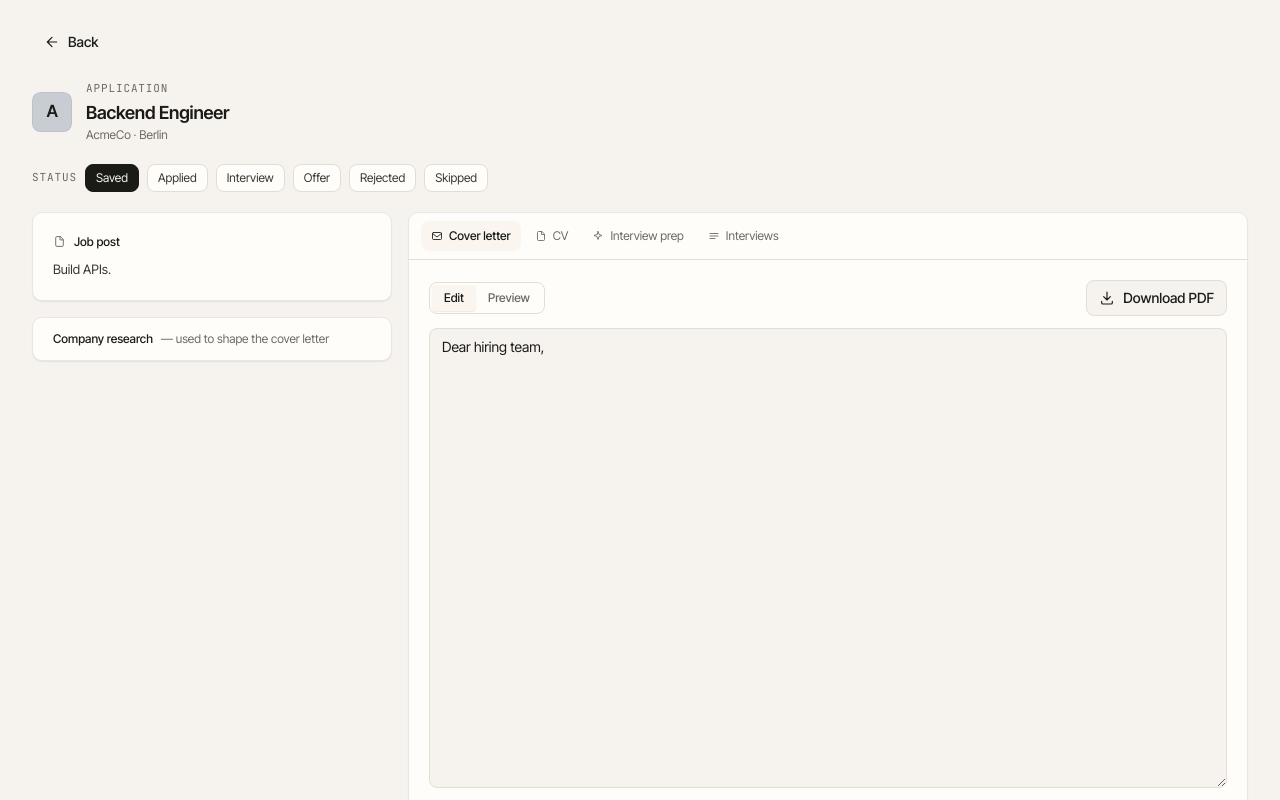
Scenario: MaterialsScreen (detail mode) › offers a Download PDF button on the cover letter and CV tabs
Expected: the text box named "edit cover letter" is shown, [429, 328, 1227, 788]
Expected: the button "Download PDF" is shown, [1086, 280, 1227, 316]
Note: CV tab exposes its own PDF download.
Click the button "CV".
click(552, 236)  # box [525, 220, 578, 250]
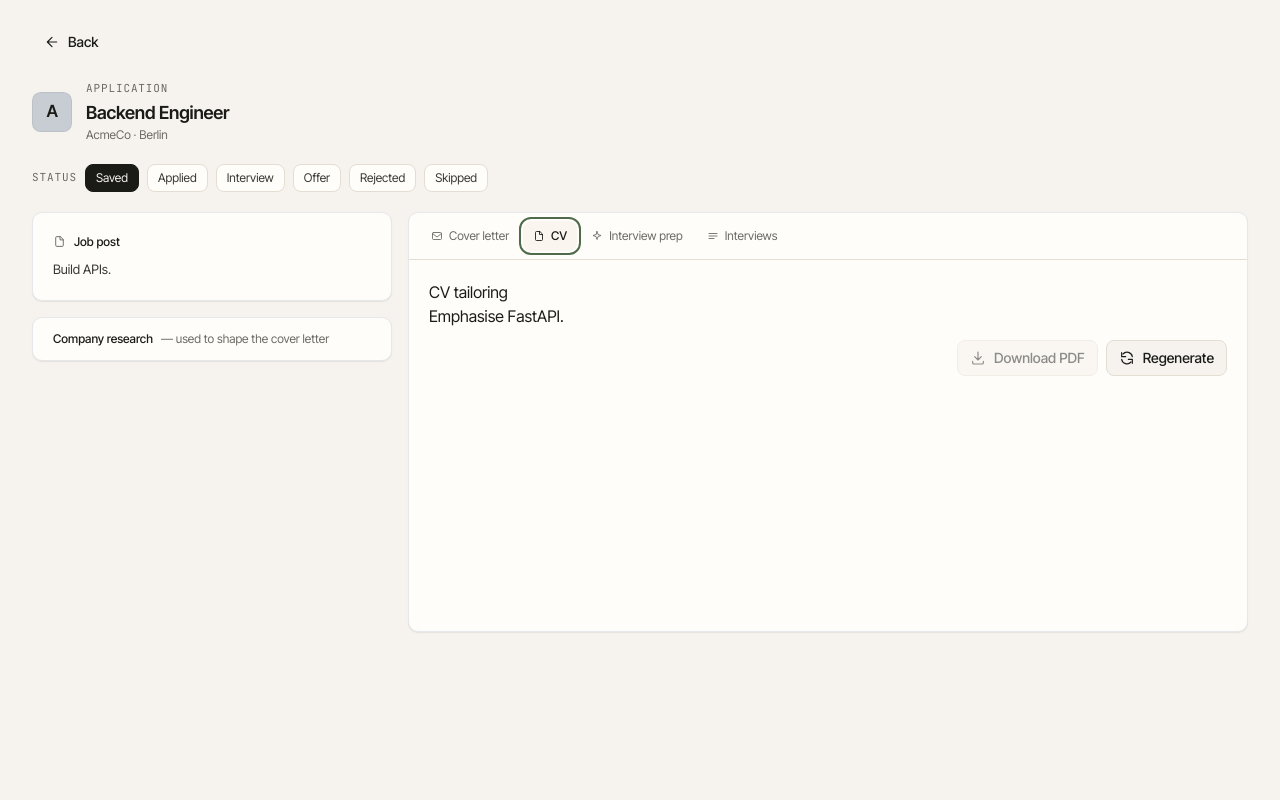
Expected: the button "Download PDF" is shown, [957, 340, 1098, 376]
Expected: the list item "Emphasise FastAPI." is shown, [429, 306, 564, 326]
